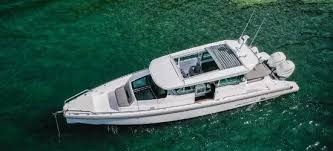boat: (61, 33, 300, 130)
